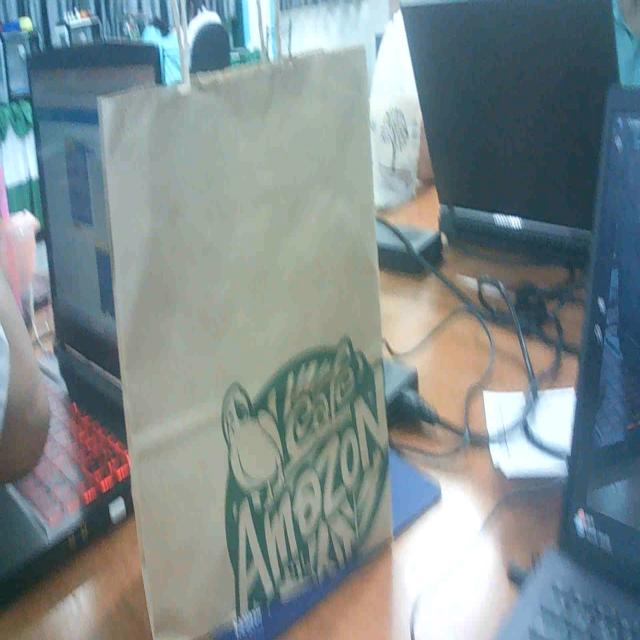bag: (97, 22, 405, 623)
